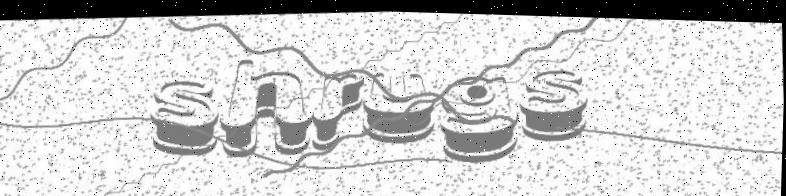g: (431, 68, 524, 164)
h: (221, 50, 317, 170)
r: (312, 61, 370, 154)
s: (141, 66, 227, 163), (517, 61, 593, 139)
u: (364, 64, 440, 149)
